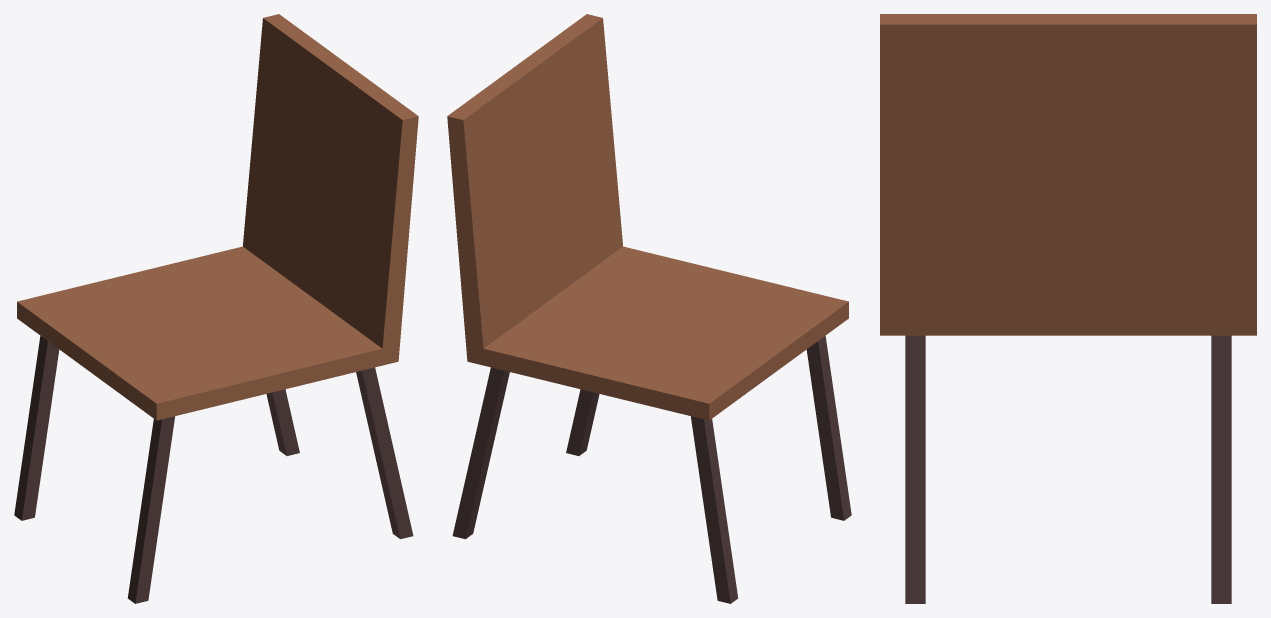
The model's file is Chair.fbx.
3 renders of one model, left to right at view 1: azimuth 30°, elevation 25°; view 2: azimuth 150°, elevation 25°; view 3: azimuth 270°, elevation 25°, orthographic. The views are drawn at different scales.
Parts seen in each view (by area): view 1: Chair; view 2: Chair; view 3: Chair.
Boxes of the visible parts, x1,y1,x2,y2 form: Chair: (14, 14, 418, 603); Chair: (447, 14, 851, 603); Chair: (880, 14, 1256, 603).
Size of the model in its own units: 0.8625 by 1.27 by 0.75.
